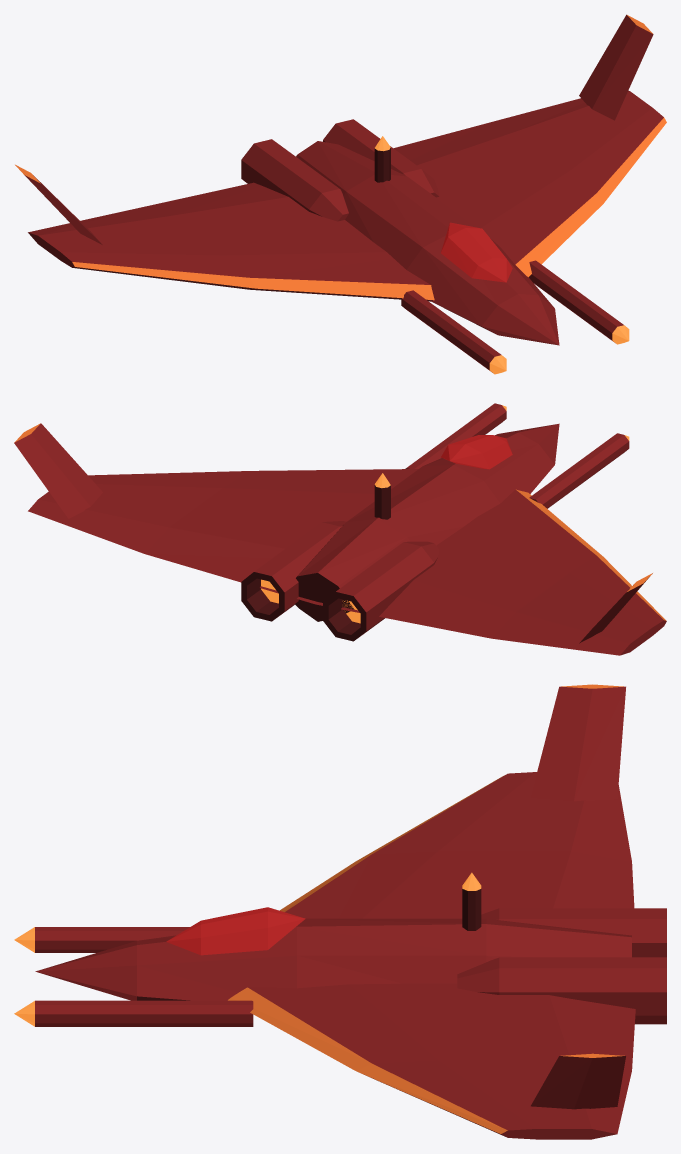
Rendered from arcwing-enemy-interceptor-hull.gltf.
The picture shows the model from 3 angles, top to bottom: view 1: azimuth 30°, elevation 25°; view 2: azimuth 150°, elevation 25°; view 3: azimuth 270°, elevation 25°; orthographic projection. The views are drawn at different scales.
Parts seen in each view (by area): view 1: arcwing-enemy-interceptor; view 2: arcwing-enemy-interceptor; view 3: arcwing-enemy-interceptor.
Boxes of the visible parts, x1,y1,x2,y2 form: arcwing-enemy-interceptor: [15, 14, 666, 374]; arcwing-enemy-interceptor: [14, 403, 666, 655]; arcwing-enemy-interceptor: [14, 684, 666, 1139].
Bounding box in the file's own units: 3.04 × 0.52 × 2.24.
